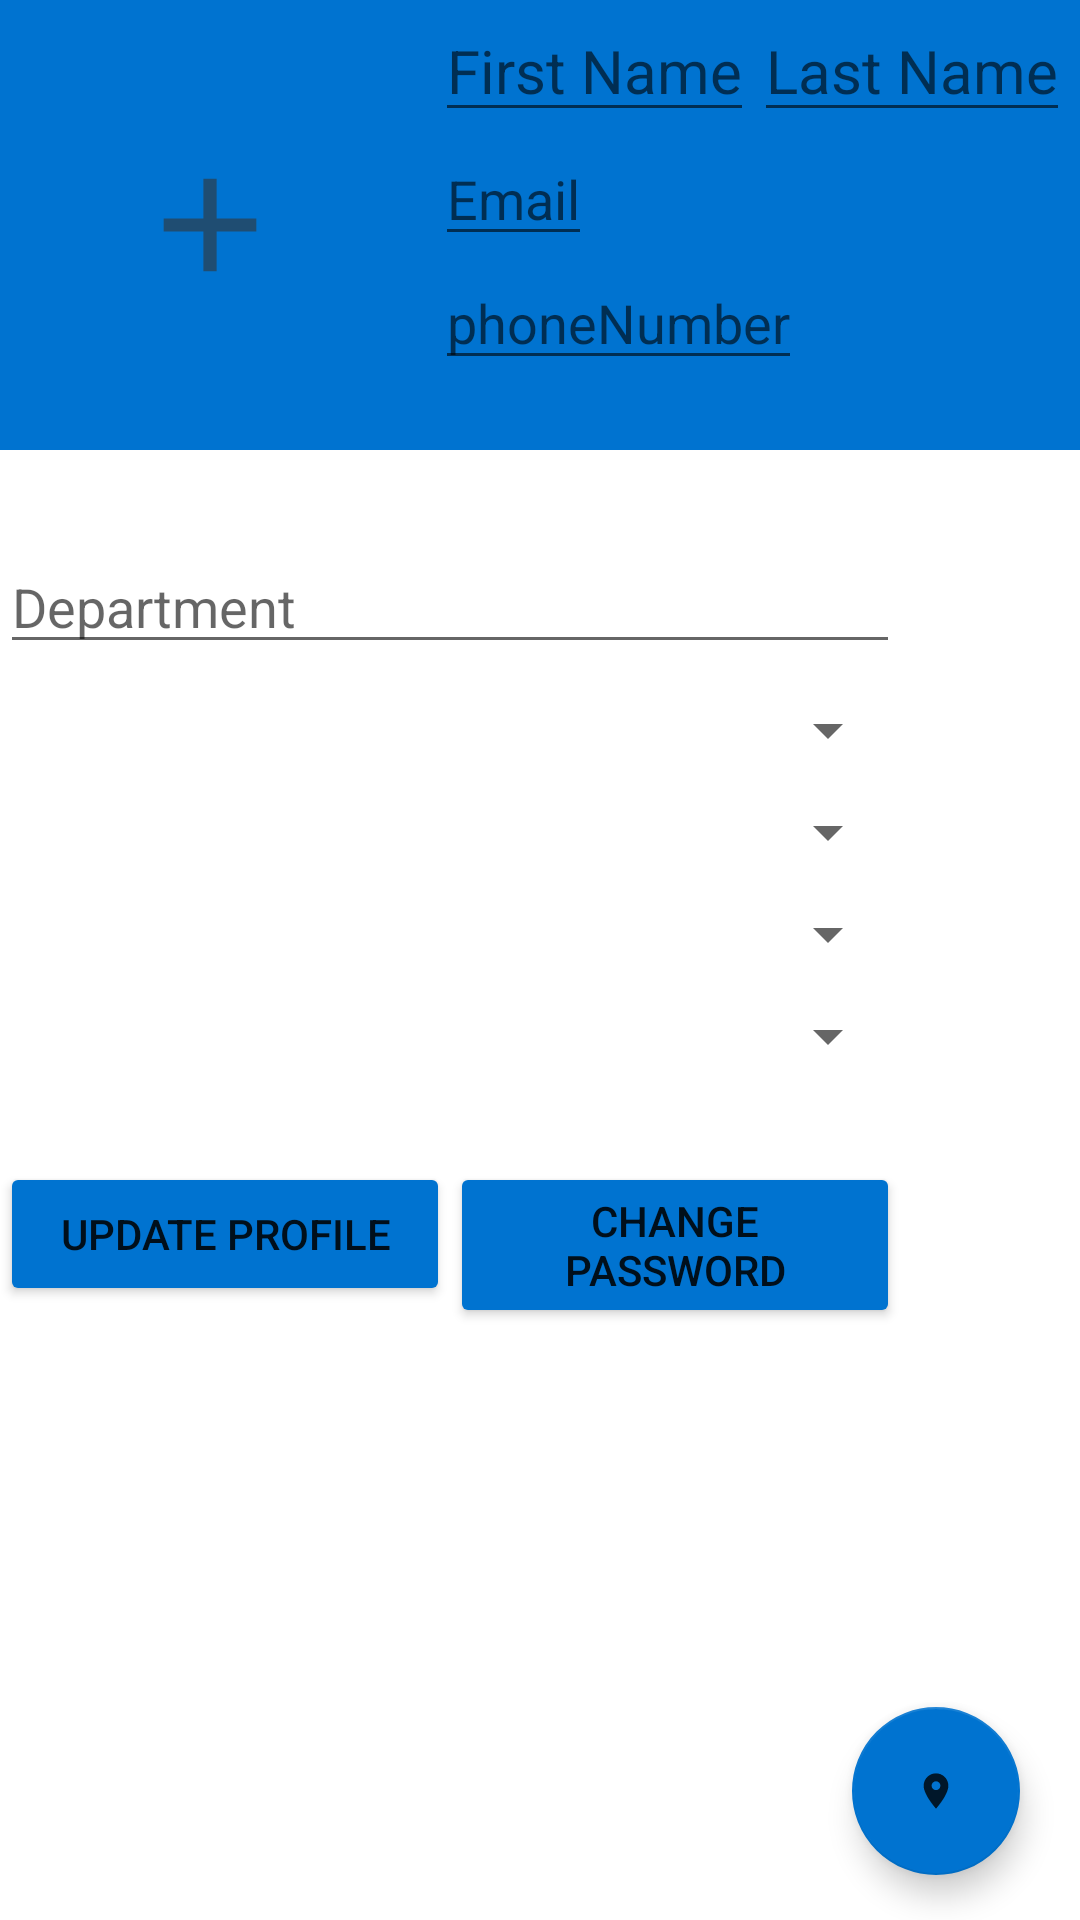

Where to tap for icons on this 1080x1920 app screen, as (x=x, y=y):
location: (x=936, y=1791)
